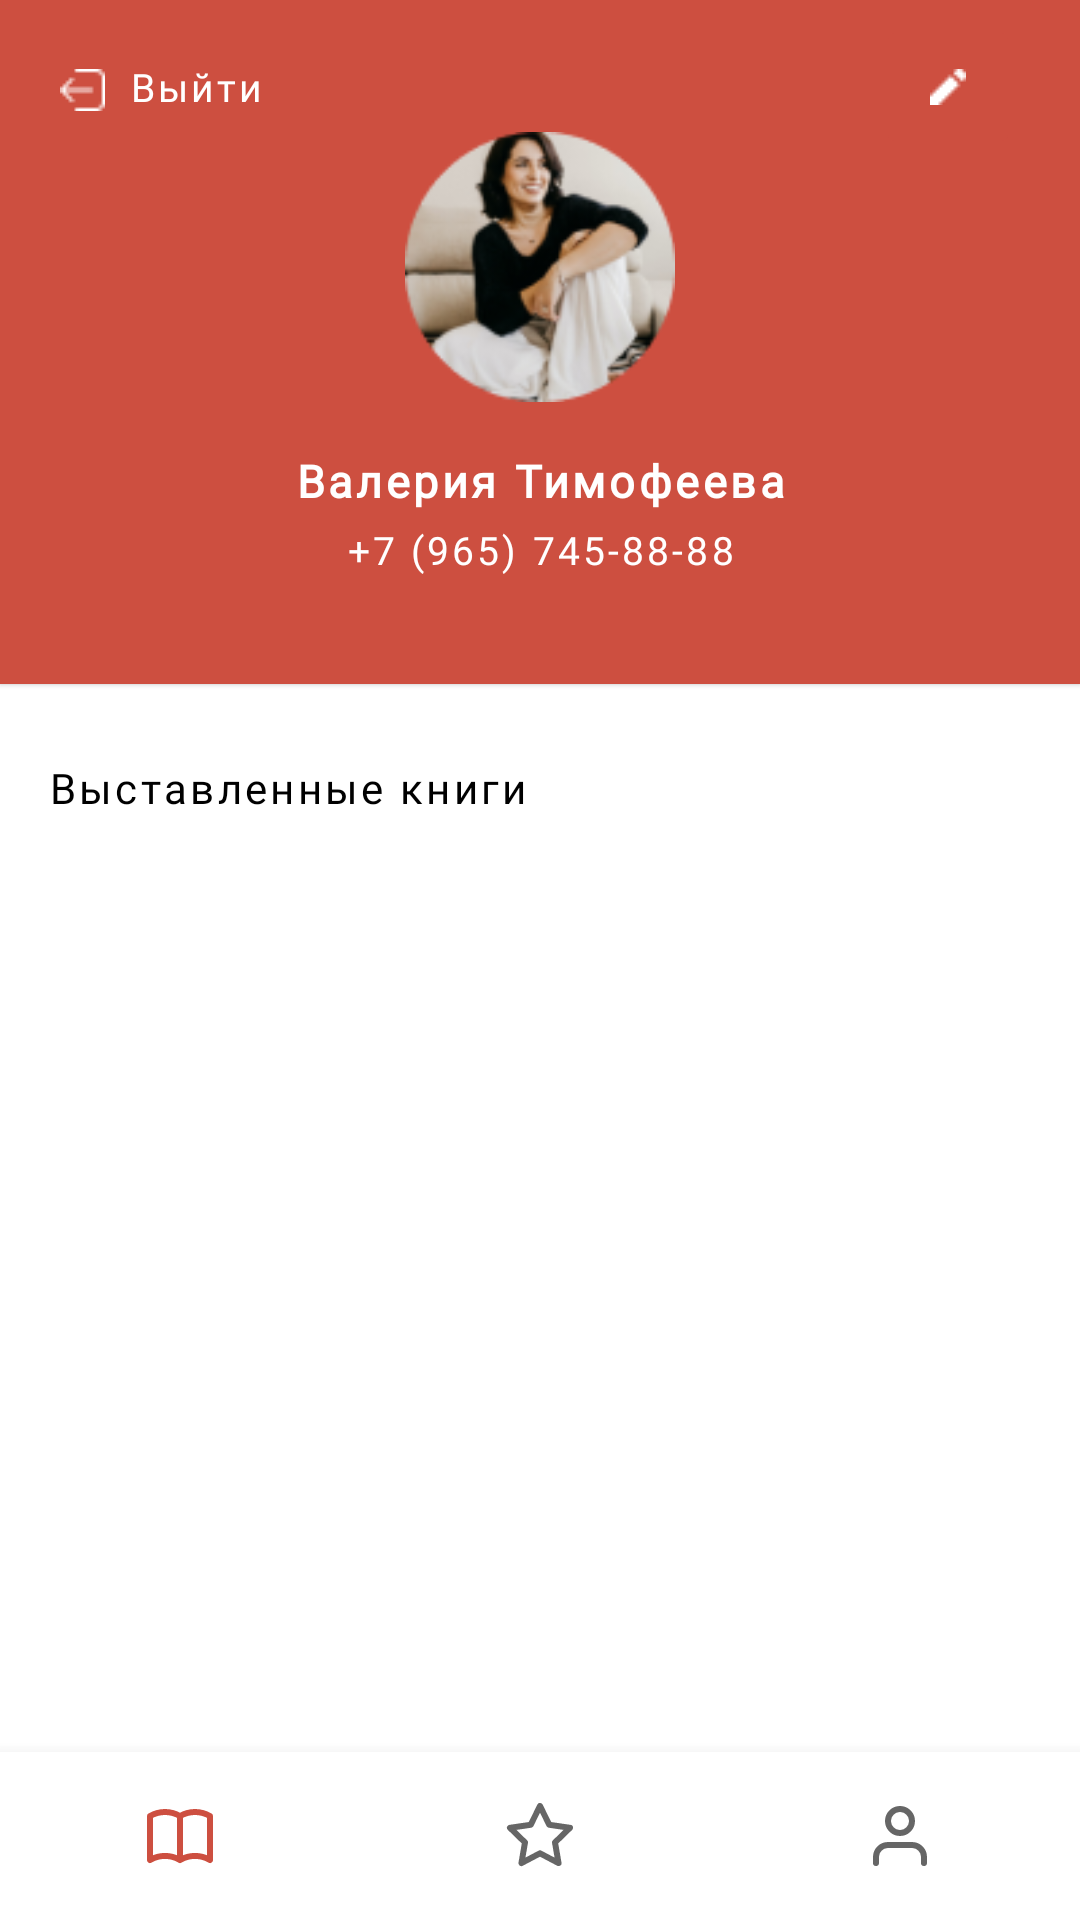

Where icons sit on this 1080px x 1920px app screen, as (x1, y1, x2, y2):
edit: (930, 69, 966, 105)
exit: (60, 69, 105, 111)
